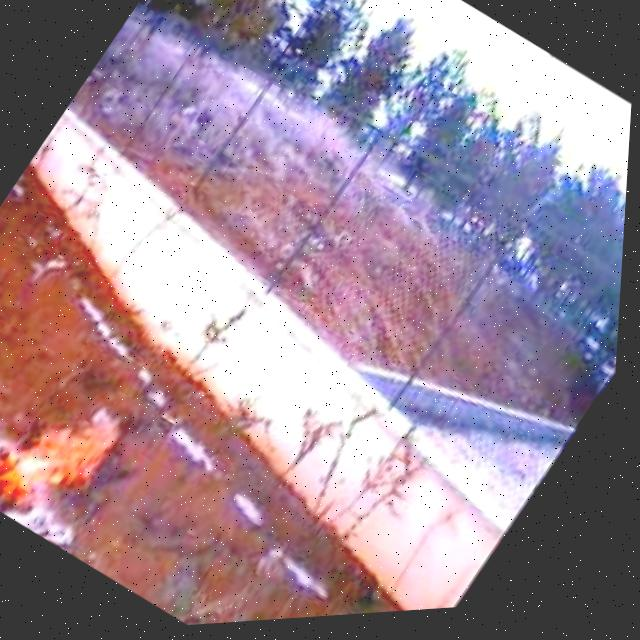Fire: (0, 354, 140, 546)
